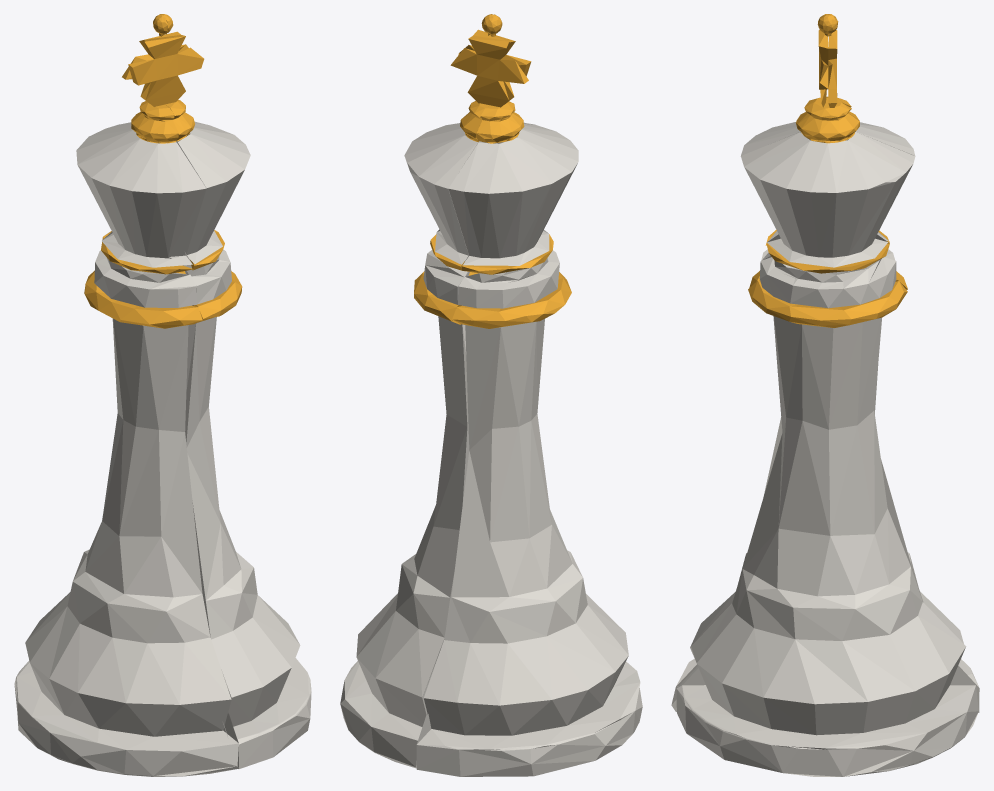
The model's file is king.glb.
3 views of the same model, side by side, from view 1: azimuth 30°, elevation 25°; view 2: azimuth 150°, elevation 25°; view 3: azimuth 270°, elevation 25° (orthographic).
Visible parts, largest first — view 1: body, accent; view 2: body, accent; view 3: body, accent.
Part boxes in pixels (bbox=[...]): body: bbox=[14, 121, 311, 776]; accent: bbox=[84, 14, 242, 328]; body: bbox=[340, 122, 642, 776]; accent: bbox=[414, 14, 571, 328]; body: bbox=[671, 122, 979, 776]; accent: bbox=[748, 14, 907, 327].
Bounding box in the file's own units: 0.3642 × 0.9407 × 0.3752.
